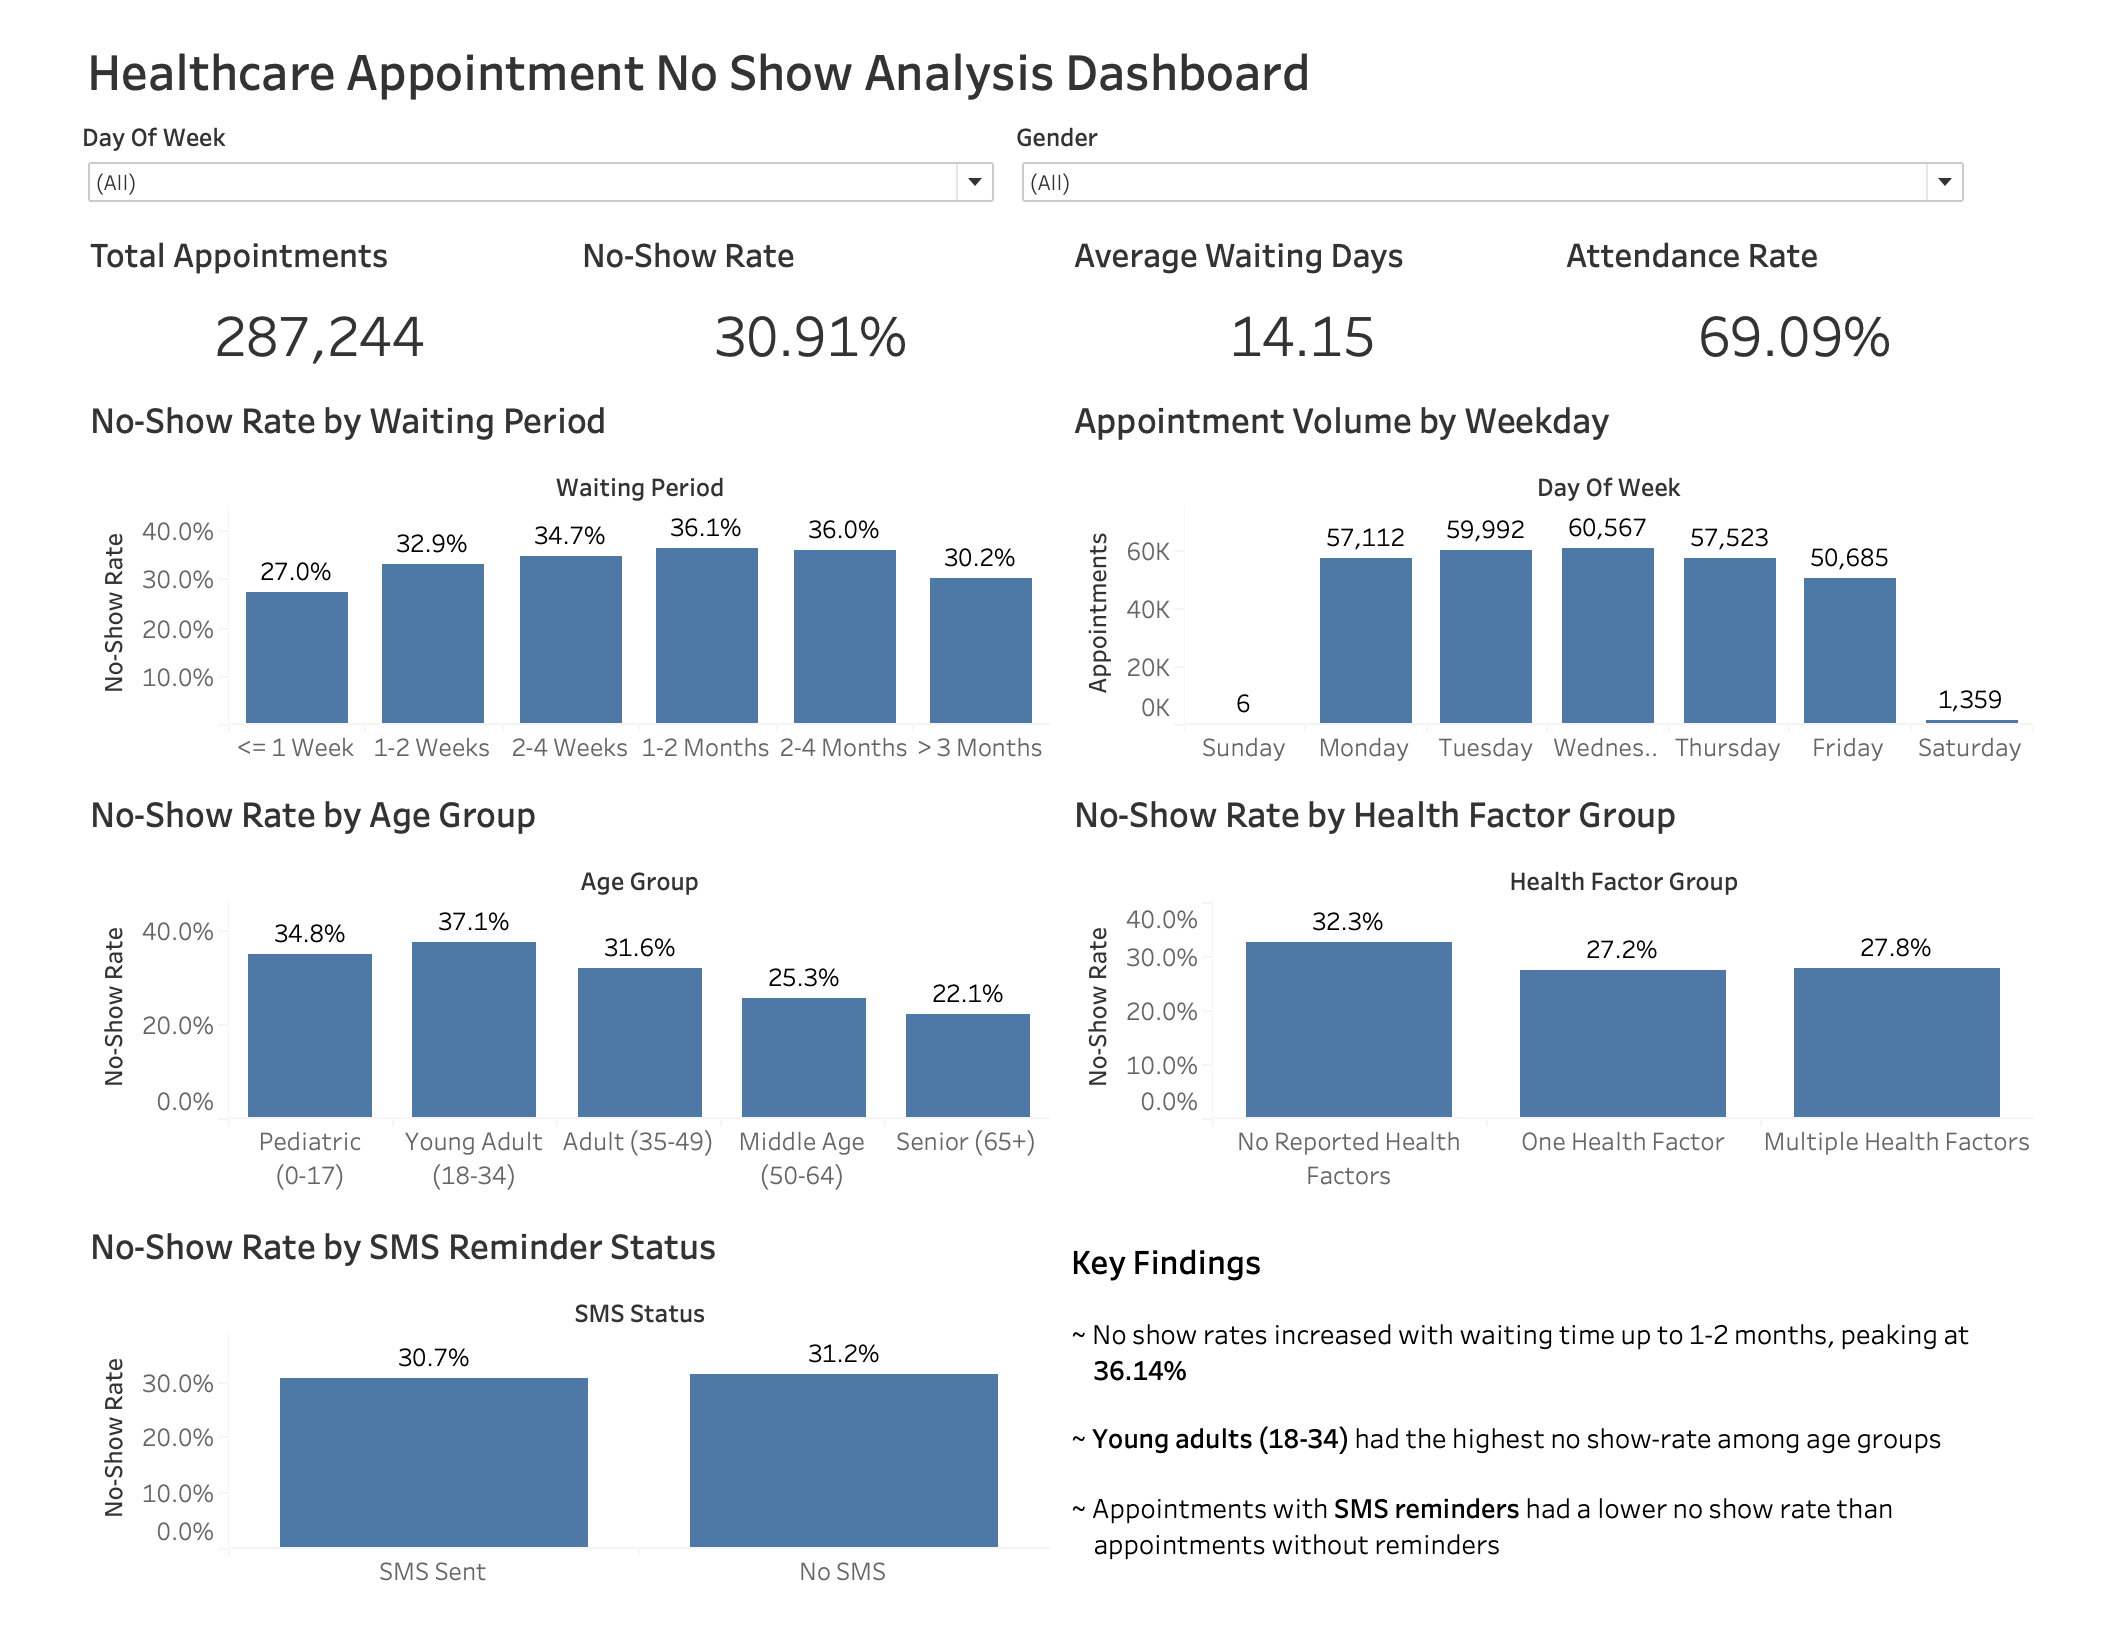

What the dashboard file says about the page in this screenshot:
{"tool":"tableau","page":{"name":"Healthcare Appointment No Show Analysis Dashboard","canvas":[1000,800],"ordinal":0},"visuals":[{"type":"title","box":[8,8,984,41]},{"type":"filter","title":"Appointment Volume by Weekday","param":"[federated.0mpn8wf0a56n3113ele4z1z0ggqg].[none:day_of_week:nk]","box":[8,49,467,52]},{"type":"filter","title":"Total Appointments","param":"[federated.0mpn8wf0a56n3113ele4z1z0ggqg].[none:gender:nk]","box":[475,49,485,52]},{"type":"worksheet","title":"Total Appointments","mark":"Automatic","box":[8,101,246,81.9]},{"type":"worksheet","title":"No-Show Rate","mark":"Automatic","box":[254,101,246,81.9]},{"type":"worksheet","title":"Average Waiting Days","mark":"Automatic","box":[500,101,246,81.9]},{"type":"worksheet","title":"Attendance Rate","mark":"Automatic","box":[746,101,246,81.9]},{"type":"worksheet","title":"No-Show Rate by Waiting Period","mark":"Bar","rows":["Calculation_1067142039051710464"],"cols":["Calculation_1067142039053660163"],"box":[8,182.9,492,197.1]},{"type":"worksheet","title":"Appointment Volume by Weekday","mark":"Bar","rows":["appointment_status"],"cols":["day_of_week"],"box":[500,182.9,492,197]},{"type":"worksheet","title":"No-Show Rate by Age Group","mark":"Bar","rows":["Calculation_1067142039051710464"],"cols":["Calculation_1067142039052963842"],"box":[8,380,492,216]},{"type":"worksheet","title":"No-Show Rate by Health Factor Group","mark":"Bar","rows":["Calculation_1067142039051710464"],"cols":["Calculation_1067142039054528517"],"box":[500,380,492,216]},{"type":"worksheet","title":"No-Show Rate by SMS Reminder Status","mark":"Bar","rows":["Calculation_1067142039051710464"],"cols":["Calculation_1067142039054909446"],"box":[8,596,492,196]},{"type":"text","box":[500,596,492,196]}]}

Visuals, with their boxes on the page's 1000x800 design canvas (x1, y1, x2, y2). These are canvas units, not pixel positions in the 2122x1638 screenshot, which may show the page scaled, cropped or inside an application window:
title: x1=8 y1=8 x2=992 y2=49
"Appointment Volume by Weekday" filter: x1=8 y1=49 x2=475 y2=101
"Total Appointments" filter: x1=475 y1=49 x2=960 y2=101
"Total Appointments" worksheet: x1=8 y1=101 x2=254 y2=183
"No-Show Rate" worksheet: x1=254 y1=101 x2=500 y2=183
"Average Waiting Days" worksheet: x1=500 y1=101 x2=746 y2=183
"Attendance Rate" worksheet: x1=746 y1=101 x2=992 y2=183
"No-Show Rate by Waiting Period" worksheet (Bar marks): x1=8 y1=183 x2=500 y2=380
"Appointment Volume by Weekday" worksheet (Bar marks): x1=500 y1=183 x2=992 y2=380
"No-Show Rate by Age Group" worksheet (Bar marks): x1=8 y1=380 x2=500 y2=596
"No-Show Rate by Health Factor Group" worksheet (Bar marks): x1=500 y1=380 x2=992 y2=596
"No-Show Rate by SMS Reminder Status" worksheet (Bar marks): x1=8 y1=596 x2=500 y2=792
text: x1=500 y1=596 x2=992 y2=792
